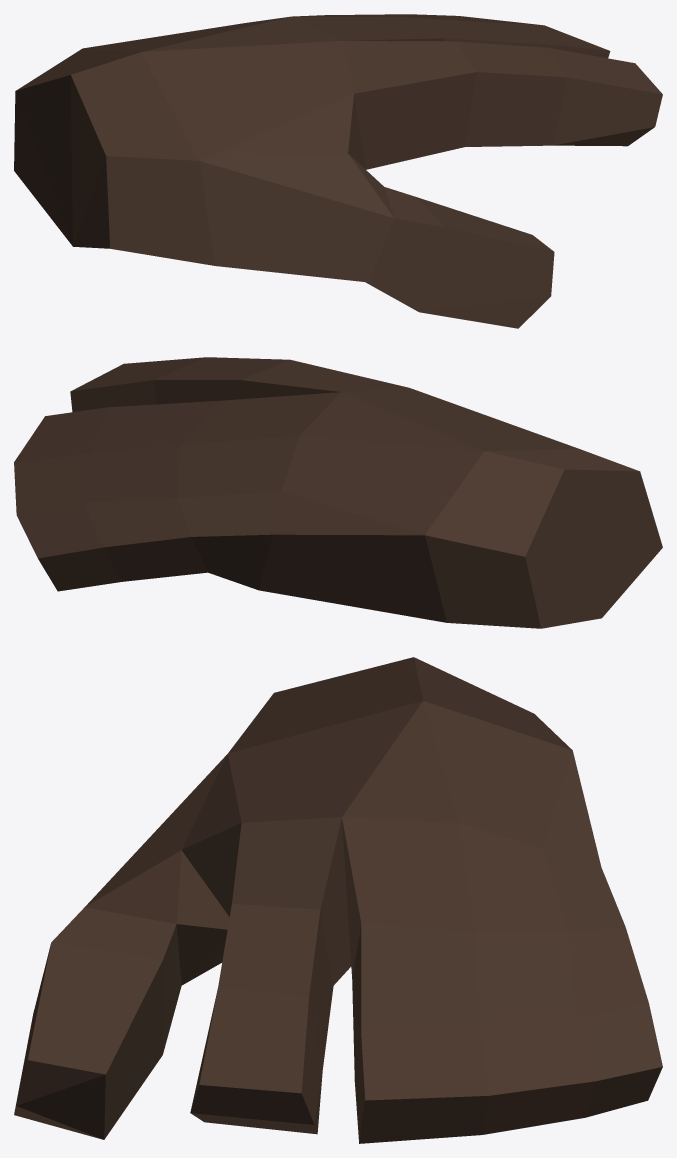
The model's file is Chr_HandLeft_Male_03_Static.fbx.
The picture shows the model from 3 angles, top to bottom: view 1: azimuth 30°, elevation 25°; view 2: azimuth 150°, elevation 25°; view 3: azimuth 270°, elevation 25°; orthographic projection. The views are drawn at different scales.
Parts seen in each view (by area): view 1: Chr_HandLeft_Male_03_Static; view 2: Chr_HandLeft_Male_03_Static; view 3: Chr_HandLeft_Male_03_Static.
Boxes of the visible parts, left/top/right/bottom form: Chr_HandLeft_Male_03_Static: left=14, top=14, right=662, bottom=328; Chr_HandLeft_Male_03_Static: left=14, top=357, right=662, bottom=628; Chr_HandLeft_Male_03_Static: left=14, top=657, right=662, bottom=1143.
Size of the model in its own units: 0.237 by 0.0952 by 0.188.
